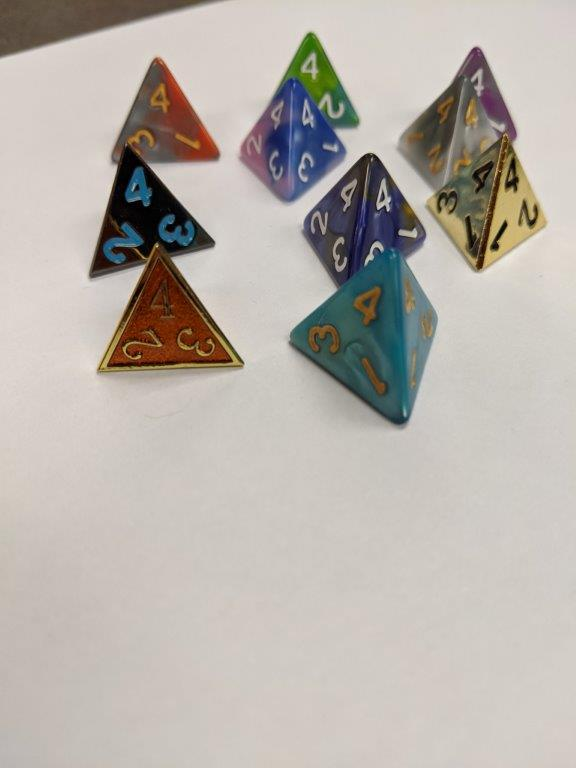d4-4: (286, 254, 444, 427), (94, 242, 244, 372), (86, 144, 223, 278), (424, 137, 546, 268), (296, 154, 429, 267), (230, 77, 347, 201), (108, 54, 224, 162), (386, 72, 491, 174), (274, 31, 363, 129), (452, 37, 518, 142)
